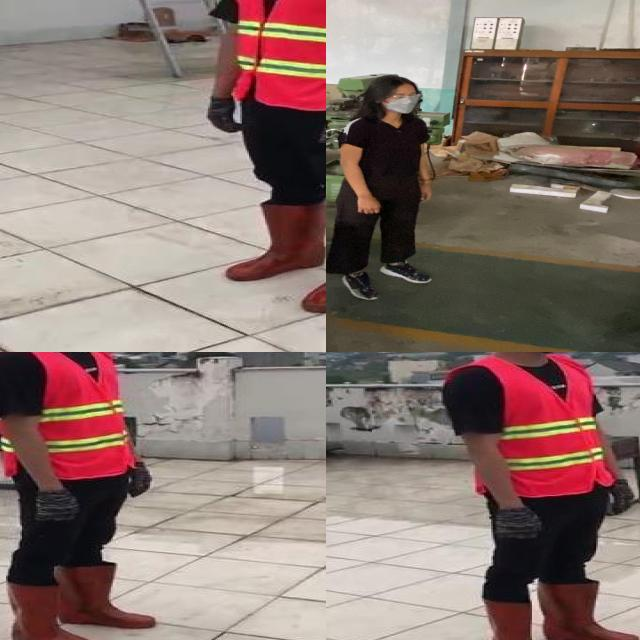boots: (226, 202, 324, 283), (58, 560, 164, 628), (0, 578, 104, 640), (537, 581, 640, 640), (468, 596, 573, 640), (297, 222, 326, 316)
face_mask: (384, 89, 422, 115)
glasses: (384, 94, 424, 102)
hand_glove: (486, 503, 544, 542), (27, 486, 84, 525), (201, 94, 247, 134), (601, 481, 640, 519), (128, 464, 152, 498)
hand_noglove: (352, 196, 384, 218), (414, 186, 437, 204)
head_nohelmet: (367, 72, 418, 91)
person: (436, 352, 640, 640), (0, 352, 157, 640), (200, 0, 326, 315), (326, 71, 454, 300)
shoes: (334, 268, 384, 304), (376, 260, 435, 286)
vest: (445, 352, 608, 497), (0, 352, 132, 476), (229, 0, 326, 108)
